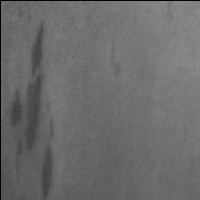inclusion: (6, 16, 53, 198), (39, 116, 60, 200), (104, 39, 127, 86)
